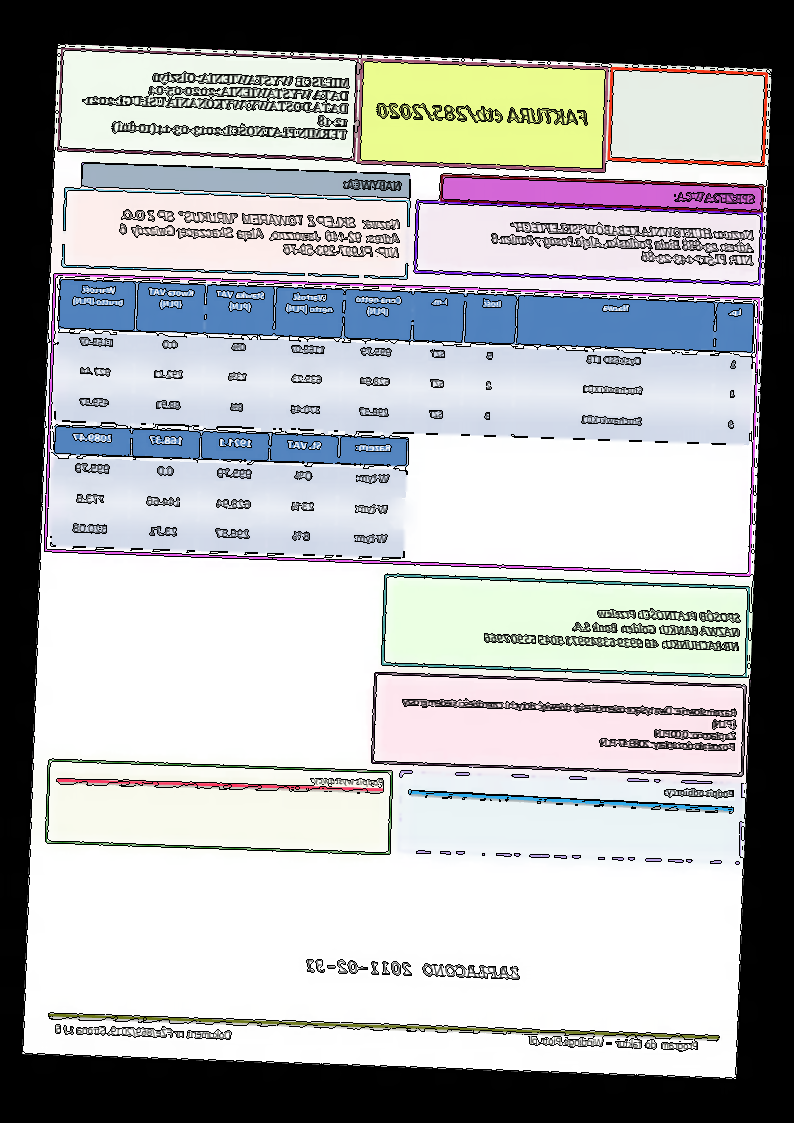Table: (55, 278, 756, 446), (49, 424, 410, 560)
TextBox: (80, 67, 351, 142), (399, 694, 740, 753), (117, 206, 402, 261), (482, 601, 742, 654), (491, 219, 756, 268), (375, 98, 590, 130), (303, 958, 522, 983), (54, 1021, 234, 1046), (529, 1034, 701, 1054), (672, 190, 757, 207), (660, 785, 738, 802), (342, 177, 403, 195), (310, 775, 386, 789)
